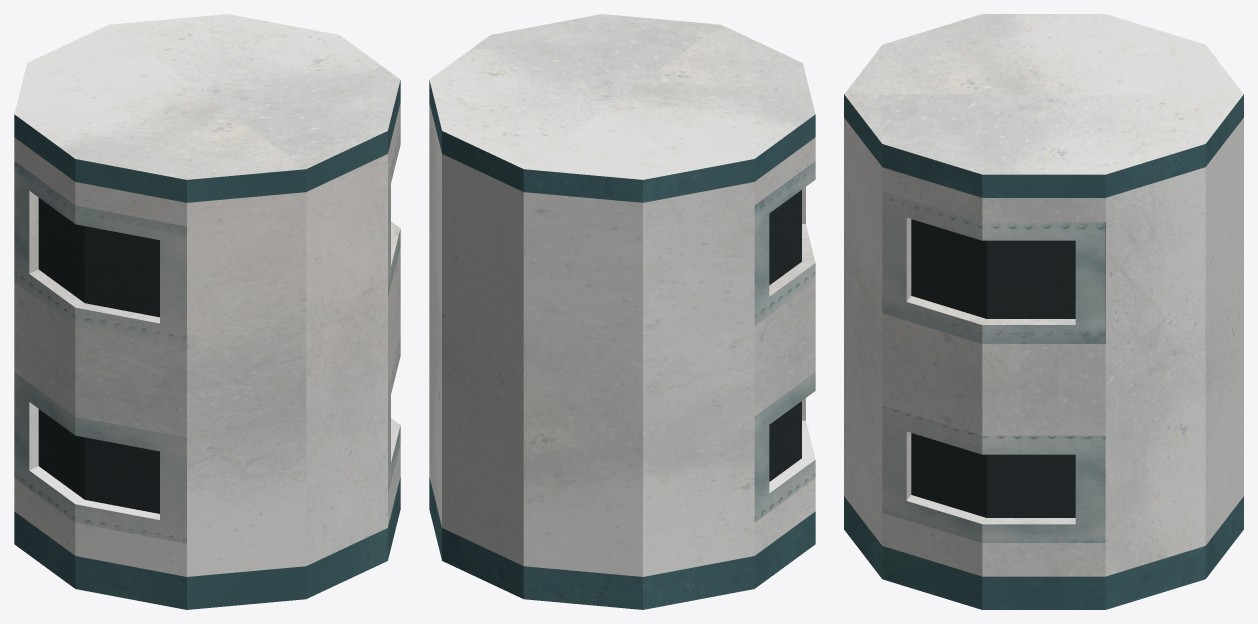
File: ascenseur_fenetre.fbx
3 renders of one model, left to right at view 1: azimuth 30°, elevation 25°; view 2: azimuth 150°, elevation 25°; view 3: azimuth 270°, elevation 25°, orthographic.
Parts seen in each view (by area): view 1: ascenseur_fenetre; view 2: ascenseur_fenetre; view 3: ascenseur_fenetre.
Part boxes in pixels (x1,y1,x2,y2): ascenseur_fenetre: (14,14,400,609); ascenseur_fenetre: (429,14,815,609); ascenseur_fenetre: (844,14,1243,609).
Bounding box in the file's own units: 100 × 127 × 106.
